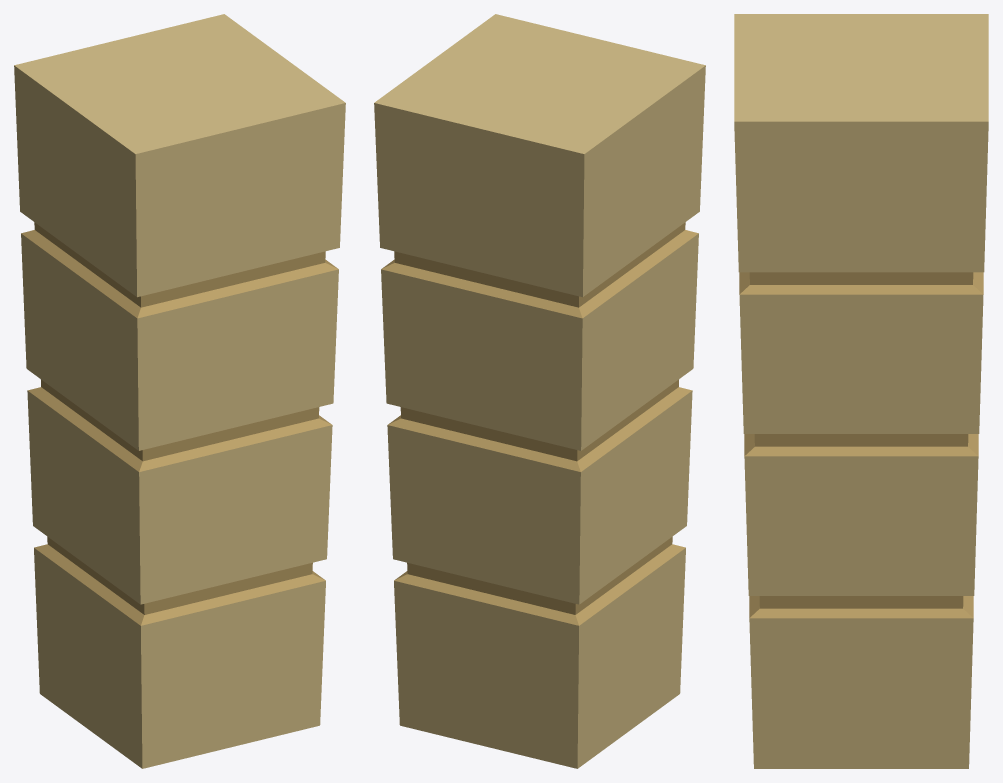
Rendered from TEMPLE_DESIGN.fbx.
The picture shows the model from 3 angles, left to right: view 1: azimuth 30°, elevation 25°; view 2: azimuth 150°, elevation 25°; view 3: azimuth 270°, elevation 25°; orthographic projection. The views are drawn at different scales.
Parts seen in each view (by area): view 1: Cube.022; view 2: Cube.022; view 3: Cube.022.
Boxes of the visible parts, x1,y1,x2,y2 form: Cube.022: (14, 14, 345, 768); Cube.022: (374, 14, 705, 768); Cube.022: (734, 14, 988, 768).
Bounding box in the file's own units: 302 × 858 × 302.
